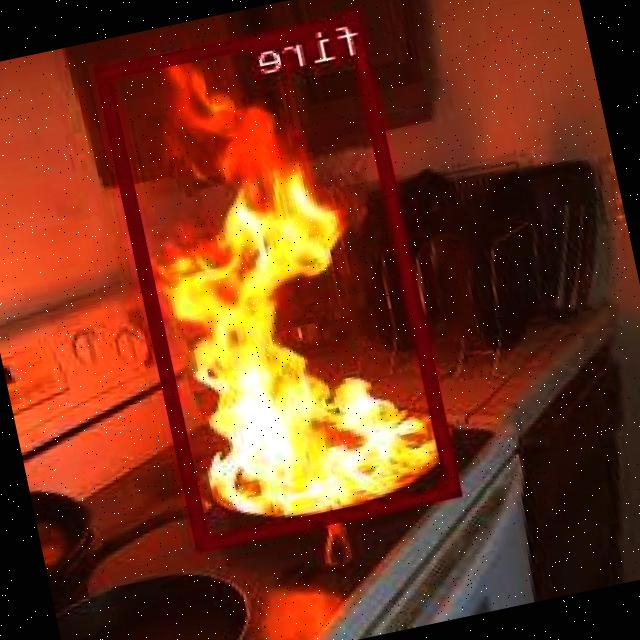fire: (98, 9, 464, 546)
